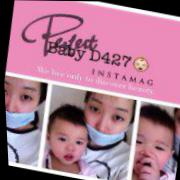NONE: (128, 129, 173, 180), (46, 128, 89, 167)
WRONG: (78, 93, 134, 147), (4, 76, 46, 134)
